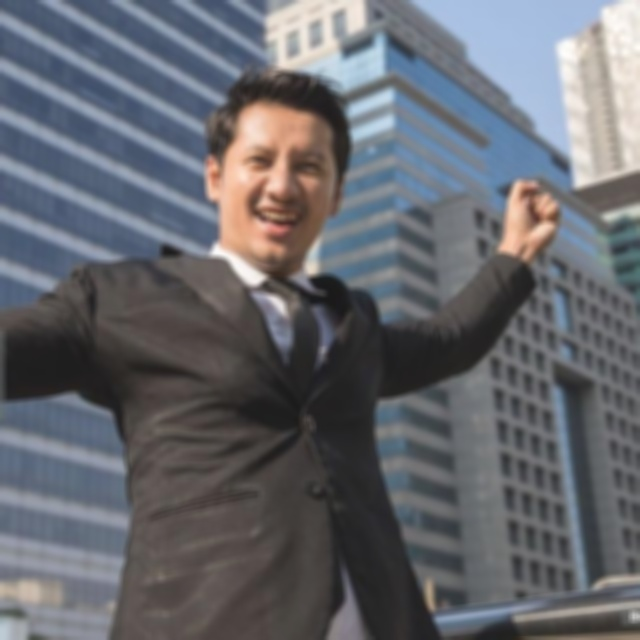Sin_Casco_Mascarrilla: (208, 67, 352, 265)
Sin_Chaleco: (109, 254, 396, 637)
